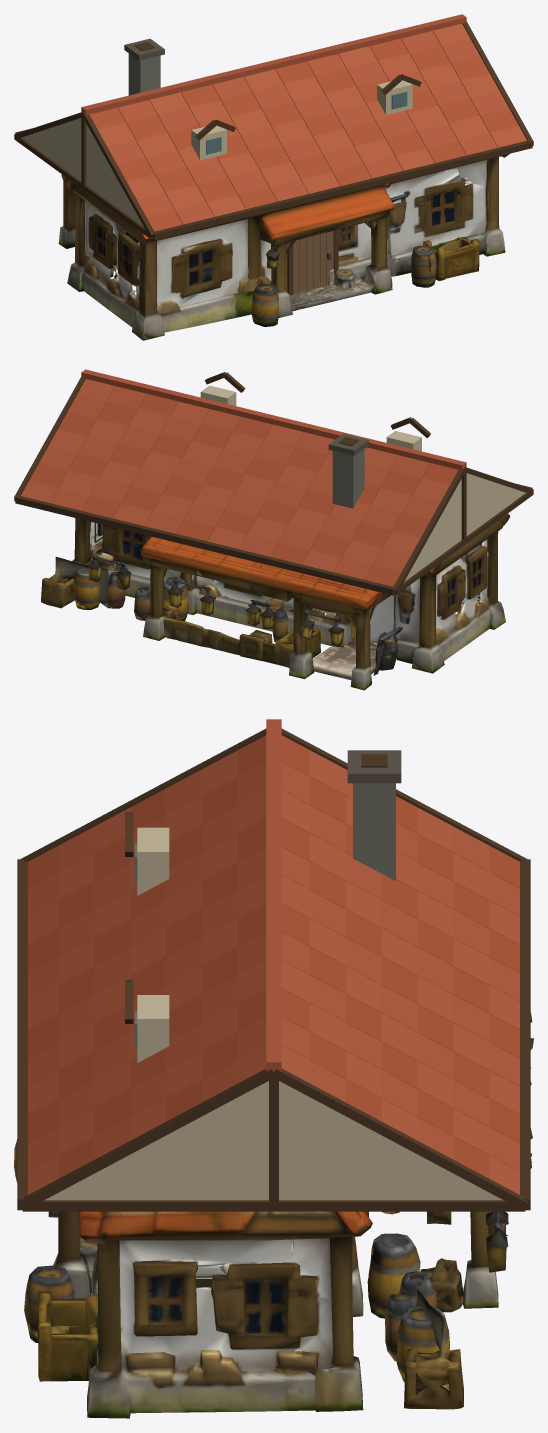
File: inn.glb
3 renders of one model, top to bottom at view 1: azimuth 30°, elevation 25°; view 2: azimuth 150°, elevation 25°; view 3: azimuth 270°, elevation 25°, orthographic. The views are drawn at different scales.
Parts seen in each view (by area): view 1: inn; view 2: inn; view 3: inn.
Boxes of the visible parts, x1,y1,x2,y2 form: inn: (14,14,533,340); inn: (14,369,533,690); inn: (14,719,533,1418).
Bounding box in the file's own units: 12.15 × 6.66 × 7.76.
12 materials, 1 textured.
